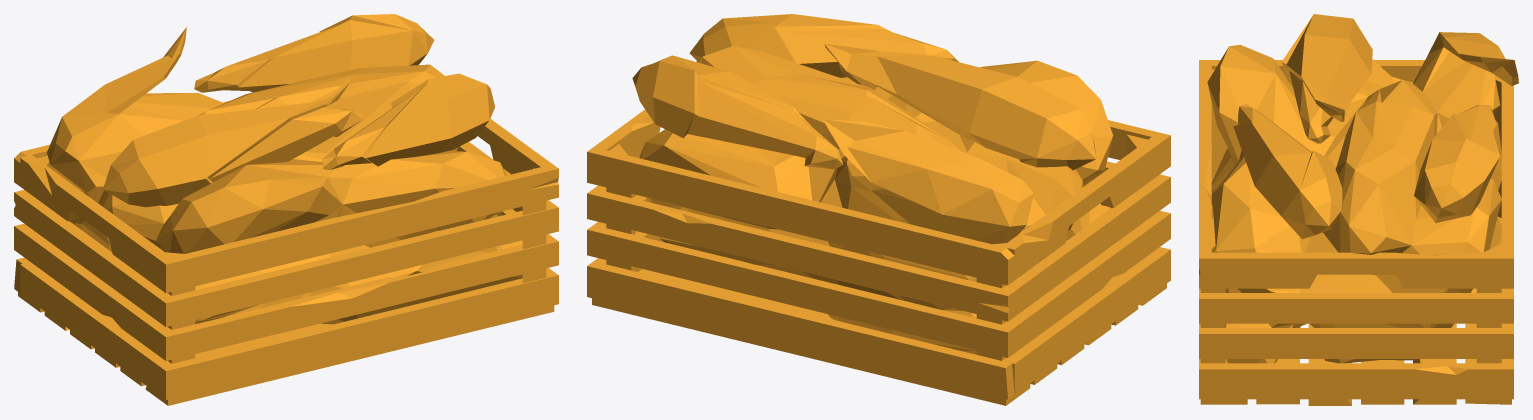
File: SM_Crate_Wood_Medium_Corn_A.fbx
3 views of the same model, side by side, from view 1: azimuth 30°, elevation 25°; view 2: azimuth 150°, elevation 25°; view 3: azimuth 270°, elevation 25° (orthographic). The views are drawn at different scales.
Parts seen in each view (by area): view 1: crate-wood-medium-corn-a; view 2: crate-wood-medium-corn-a; view 3: crate-wood-medium-corn-a.
Part boxes in pixels (x1,y1,x2,y2): crate-wood-medium-corn-a: [14, 14, 558, 405]; crate-wood-medium-corn-a: [587, 14, 1170, 405]; crate-wood-medium-corn-a: [1199, 14, 1518, 405].
Bounding box in the file's own units: 0.6067 × 0.335 × 0.4126.
